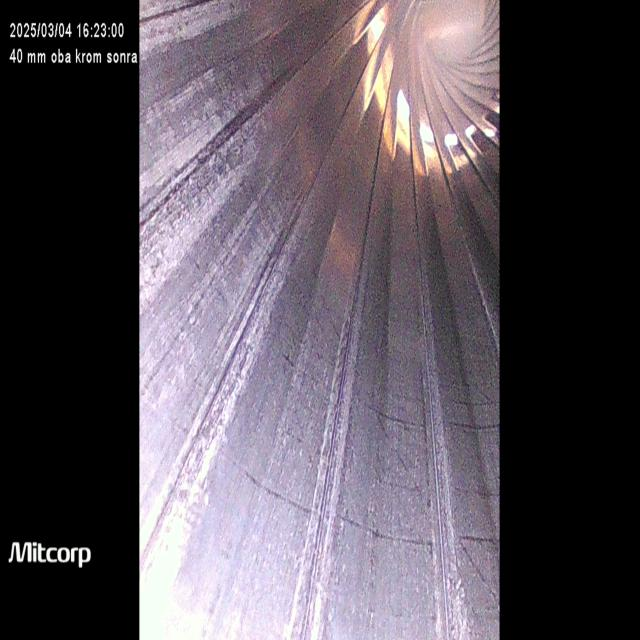hata_9.3: (140, 176, 334, 619), (282, 245, 386, 640), (138, 94, 266, 245)
